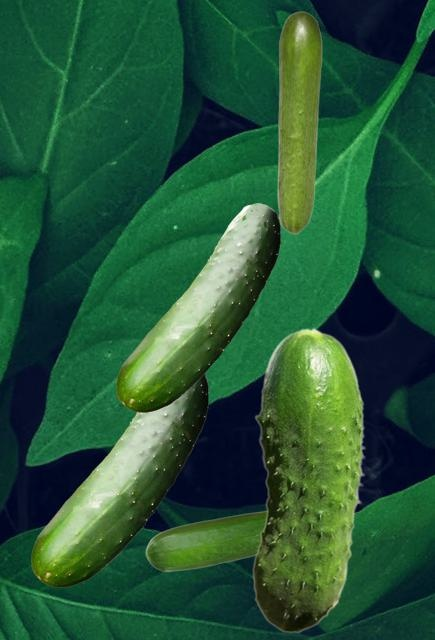cucumber: (31, 374, 207, 586), (252, 327, 365, 632), (116, 203, 279, 411), (277, 11, 321, 233), (145, 510, 265, 571)
